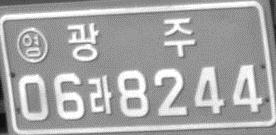0: (17, 73, 50, 121)
2: (153, 68, 188, 116)
4: (193, 66, 224, 115), (232, 64, 261, 113)
6: (53, 72, 85, 121)
8: (115, 68, 149, 118)
광주_D: (66, 16, 196, 63)
라: (86, 74, 113, 115)
영: (15, 27, 48, 64)
